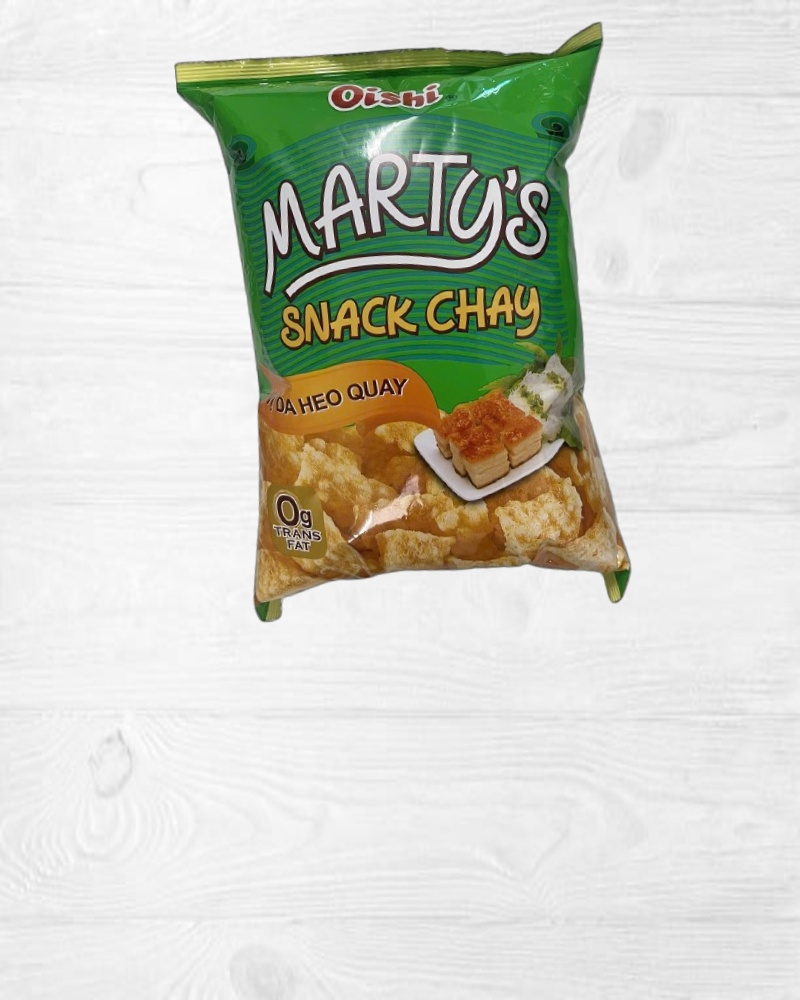Snack chay: (175, 22, 653, 638)
